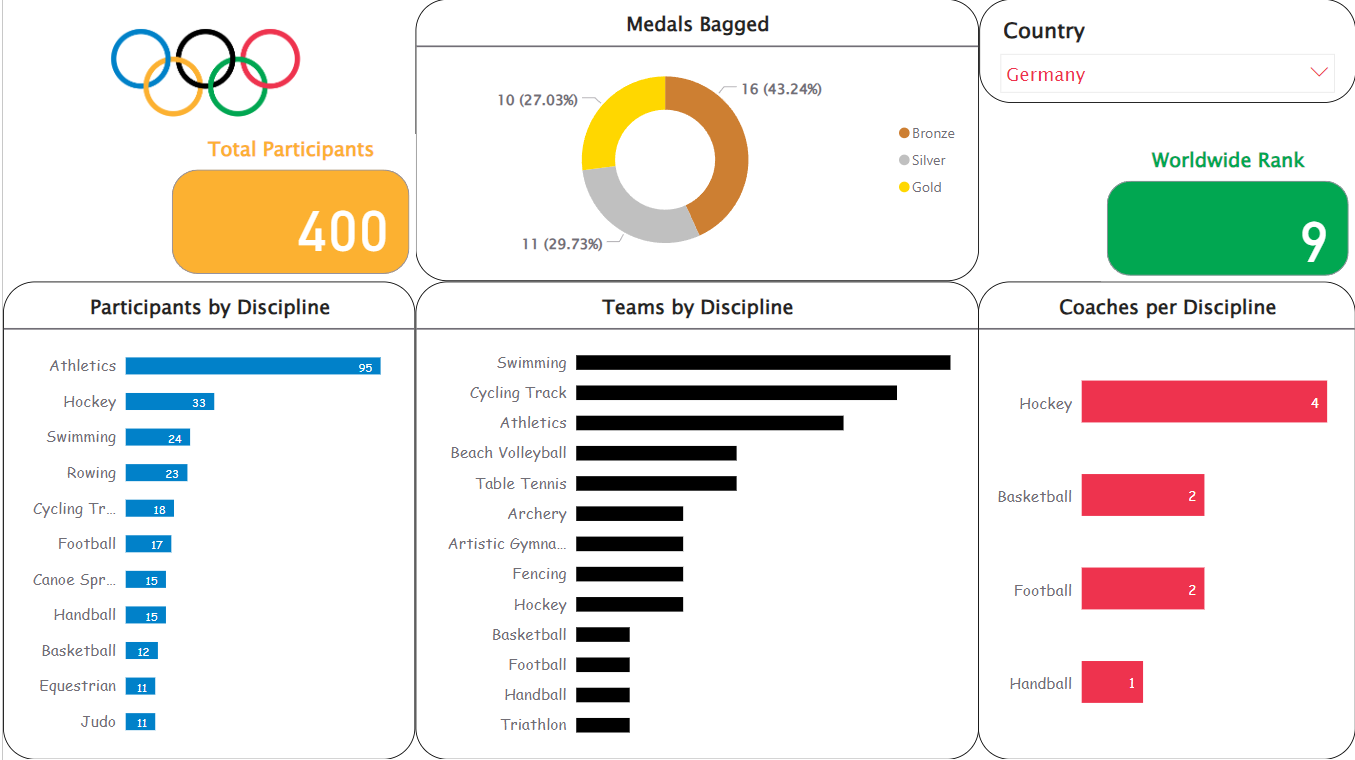

What the dashboard file says about the page in this screenshot:
{"tool":"powerbi","page":{"name":"country","canvas":[1280,720],"ordinal":1},"visuals":[{"type":"donutChart","title":"Medals Bagged","fields":{"Y":["Medals.Bronze","Medals.Silver","Medals.Gold"]},"box":[390.7,0,533.3,267.4],"z":0},{"type":"cardVisual","title":"Total Participants","fields":{"Data":["Athletes.PersonName"]},"box":[154.9,127.5,235.8,138.5],"z":1000},{"type":"clusteredBarChart","title":"Coaches per Discipline","fields":{"Category":["Coaches.Discipline"],"Y":["Coaches.Name"]},"box":[922.7,267.4,357.8,452.4],"z":2000},{"type":"clusteredBarChart","title":"Participants by Discipline","fields":{"Category":["Athletes.Discipline"],"Y":["Athletes.PersonName"]},"box":[0,267.4,390.7,452.4],"z":3000},{"type":"clusteredBarChart","title":"Teams by Discipline","fields":{"Category":["Teams.Discipline"],"Y":["Teams.TeamName"]},"box":[390.7,267.4,533.3,452.4],"z":4000},{"type":"slicer","fields":{"Values":["Medals.Team_Country"]},"box":[947.4,0,333.2,90.5],"z":5000},{"type":"cardVisual","title":"Worldwide Rank","fields":{"Data":["Medals.Rank"]},"box":[1040.6,138.5,239.9,128.9],"z":6000},{"type":"image","box":[0,0,389.4,128.9],"z":7000}]}

Visuals, with their boxes in screenshot pixels (x1, y1, x2, y2), scaled from the page's 1280x720 canvas onto the 1355x760 screenshot:
"Medals Bagged" donutChart: pyautogui.locateOnScreen(414, 0, 978, 282)
"Total Participants" cardVisual: pyautogui.locateOnScreen(164, 135, 414, 281)
"Coaches per Discipline" clusteredBarChart: pyautogui.locateOnScreen(977, 282, 1354, 759)
"Participants by Discipline" clusteredBarChart: pyautogui.locateOnScreen(0, 282, 414, 759)
"Teams by Discipline" clusteredBarChart: pyautogui.locateOnScreen(414, 282, 978, 759)
slicer - Medals.Team_Country: pyautogui.locateOnScreen(1003, 0, 1354, 96)
"Worldwide Rank" cardVisual: pyautogui.locateOnScreen(1102, 146, 1354, 282)
image: pyautogui.locateOnScreen(0, 0, 412, 136)
